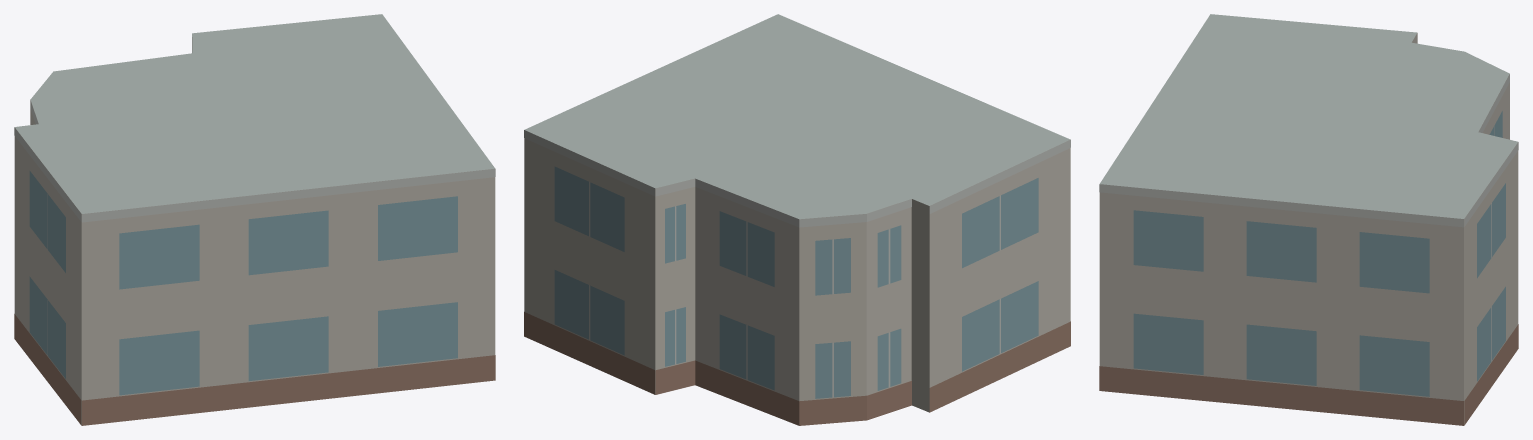
Rendered from survey-upis-32492179.glb.
3 views of the same model, side by side, from view 1: azimuth 30°, elevation 25°; view 2: azimuth 150°, elevation 25°; view 3: azimuth 270°, elevation 25° (orthographic). The views are drawn at different scales.
Parts seen in each view (by area): view 1: survey-upis-32492179.tmp; view 2: survey-upis-32492179.tmp; view 3: survey-upis-32492179.tmp.
Boxes of the visible parts, x1,y1,x2,y2 form: survey-upis-32492179.tmp: (14, 14, 495, 425); survey-upis-32492179.tmp: (524, 14, 1070, 425); survey-upis-32492179.tmp: (1099, 14, 1518, 425).
Bounding box in the file's own units: 12.99 × 6.1 × 11.21.
